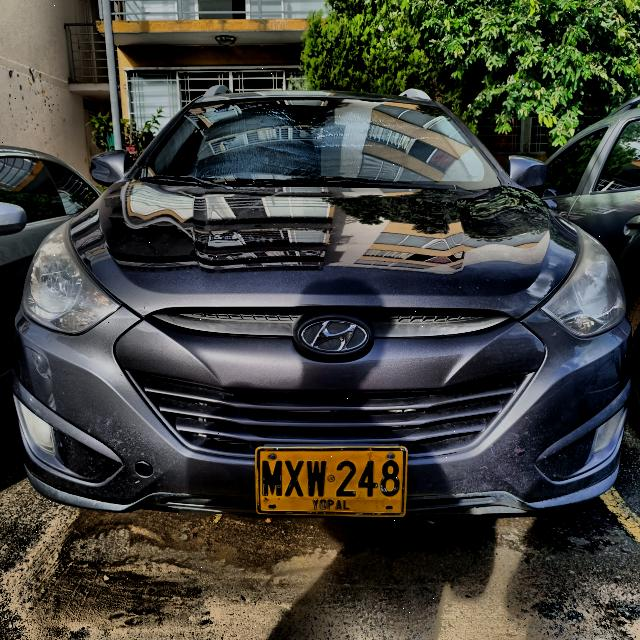2: (336, 458, 356, 498)
4: (358, 458, 380, 498)
8: (380, 459, 400, 498)
M: (261, 459, 283, 496)
W: (306, 460, 328, 498)
X: (284, 460, 304, 498)
